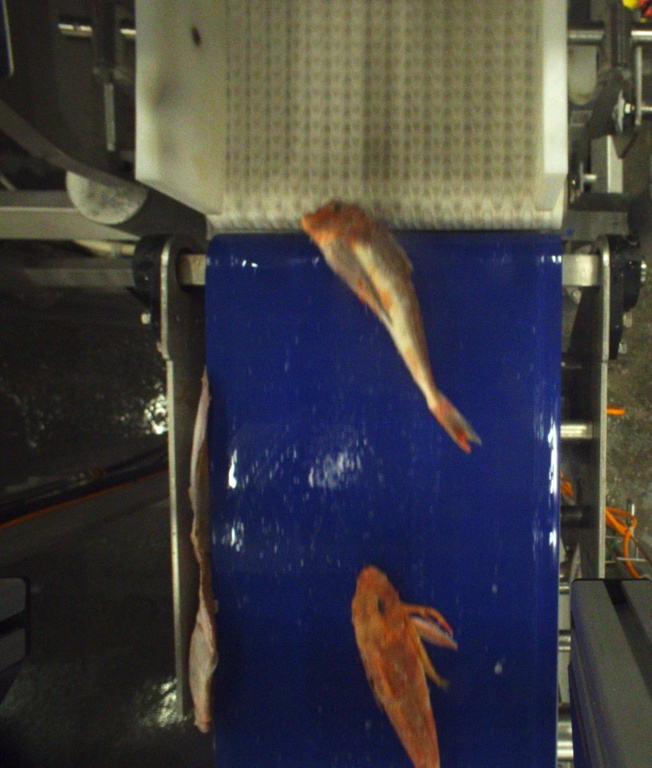GUU: (352, 566, 461, 768)
